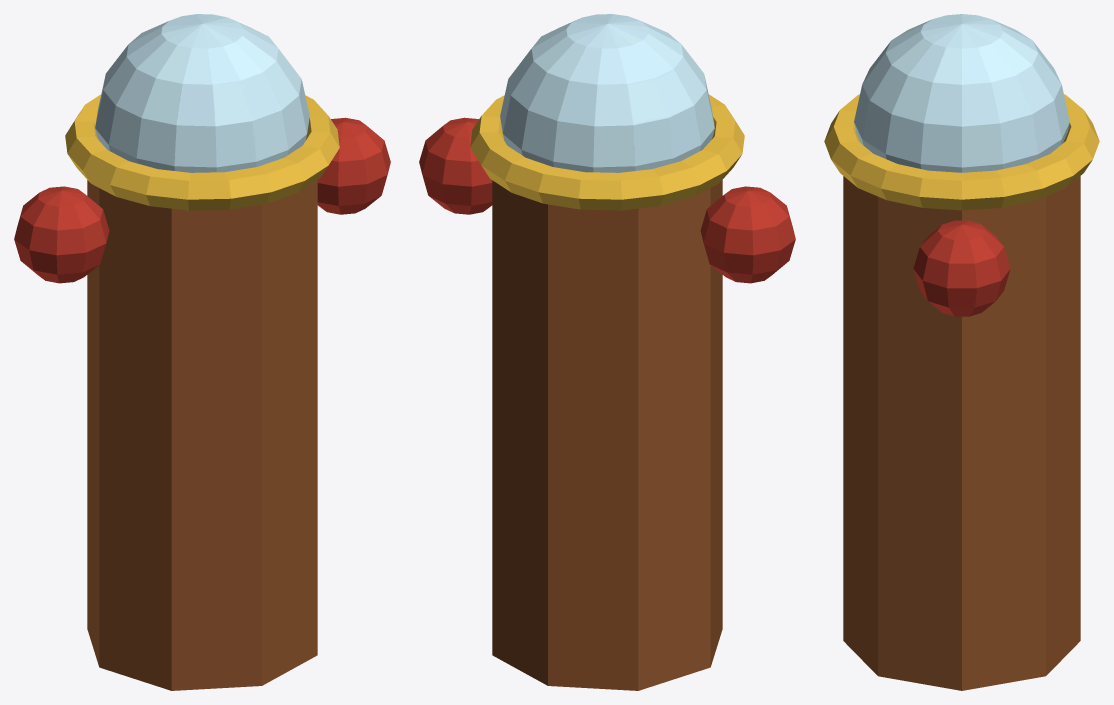
The model's file is upgrade_brass_compass.web-pbr.glb.
The picture shows the model from 3 angles, left to right: view 1: azimuth 30°, elevation 25°; view 2: azimuth 150°, elevation 25°; view 3: azimuth 270°, elevation 25°; orthographic projection.
Parts seen in each view (by area): view 1: upgrade_brass_compass_mesh; view 2: upgrade_brass_compass_mesh; view 3: upgrade_brass_compass_mesh.
Part boxes in pixels (x1,y1,x2,y2): upgrade_brass_compass_mesh: (14, 14, 390, 690); upgrade_brass_compass_mesh: (419, 14, 795, 690); upgrade_brass_compass_mesh: (824, 14, 1099, 690).
Size of the model in its own units: 0.7712 by 1.26 by 0.51.
1 material, 1 textured.
